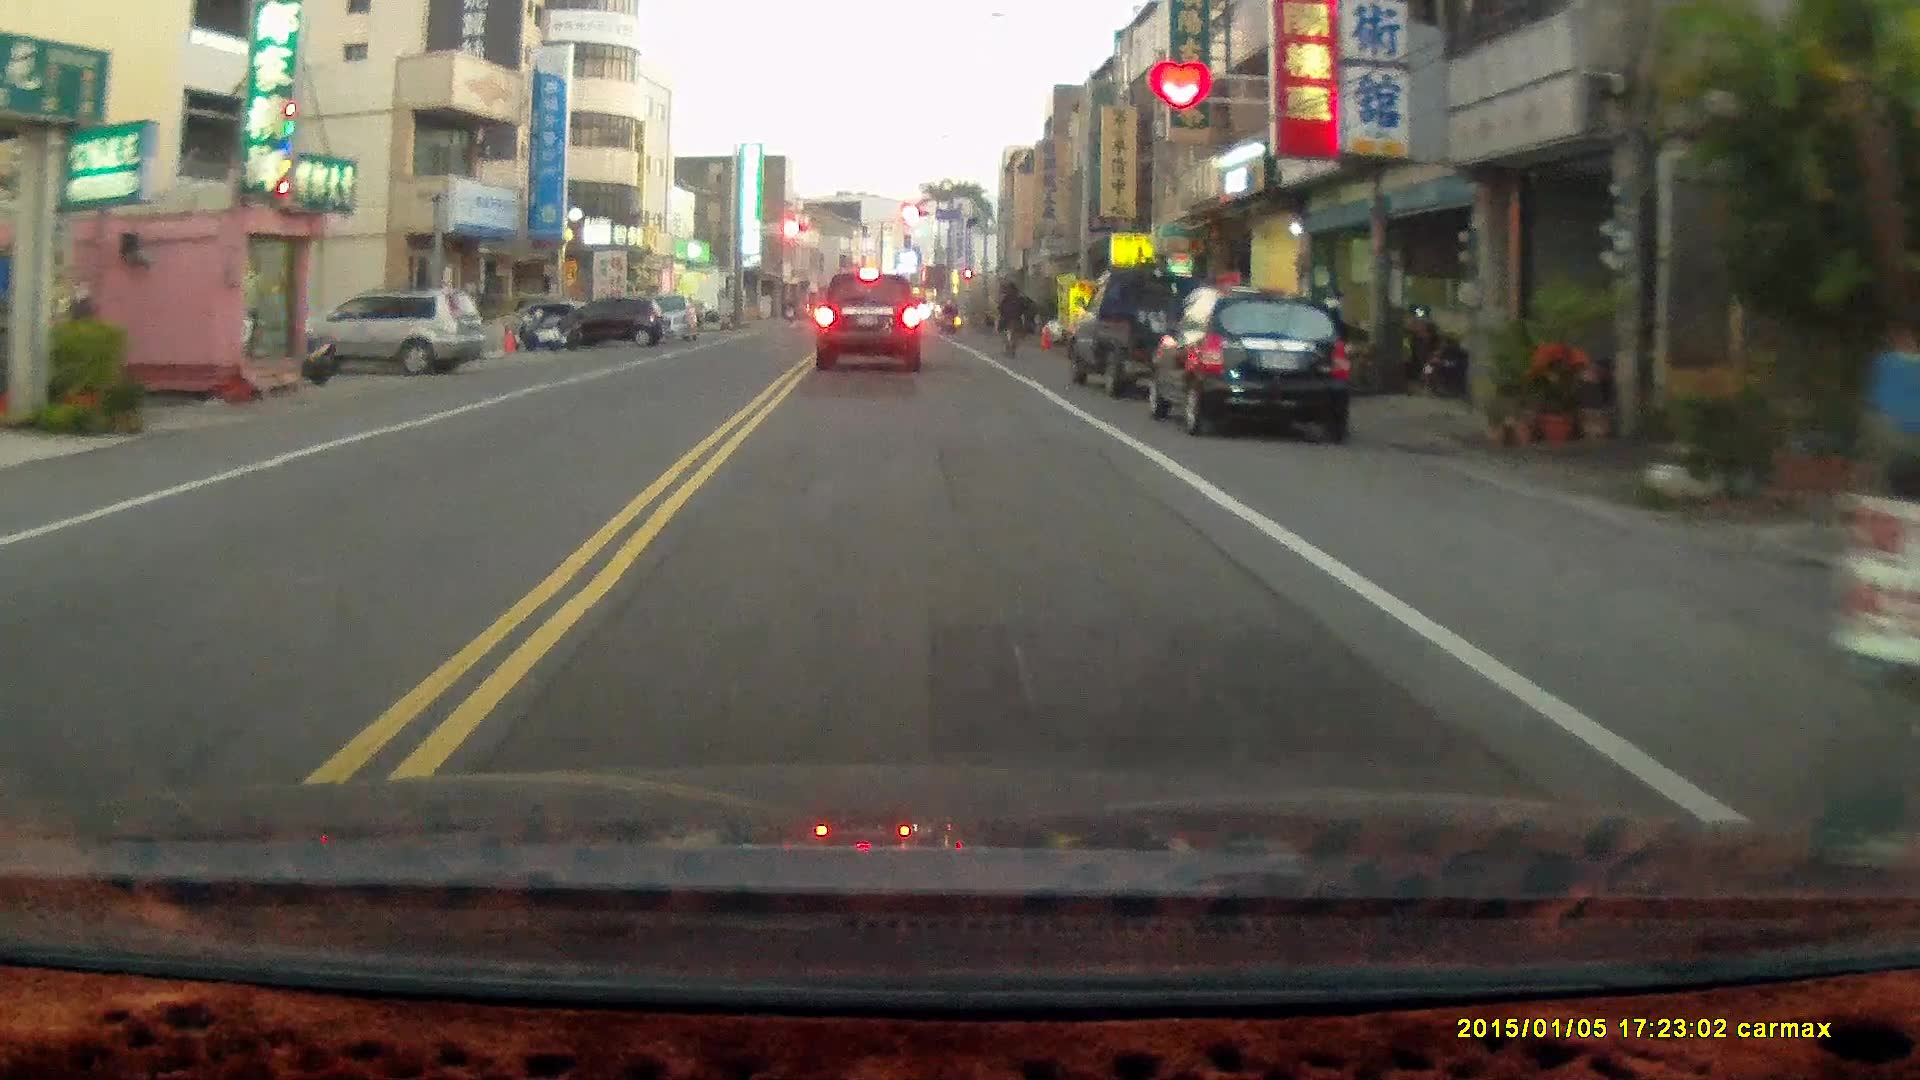rider: (995, 281, 1028, 363)
vehicle: (1160, 285, 1361, 436), (1067, 265, 1249, 397), (286, 291, 488, 375), (815, 274, 925, 376), (534, 296, 661, 353)
